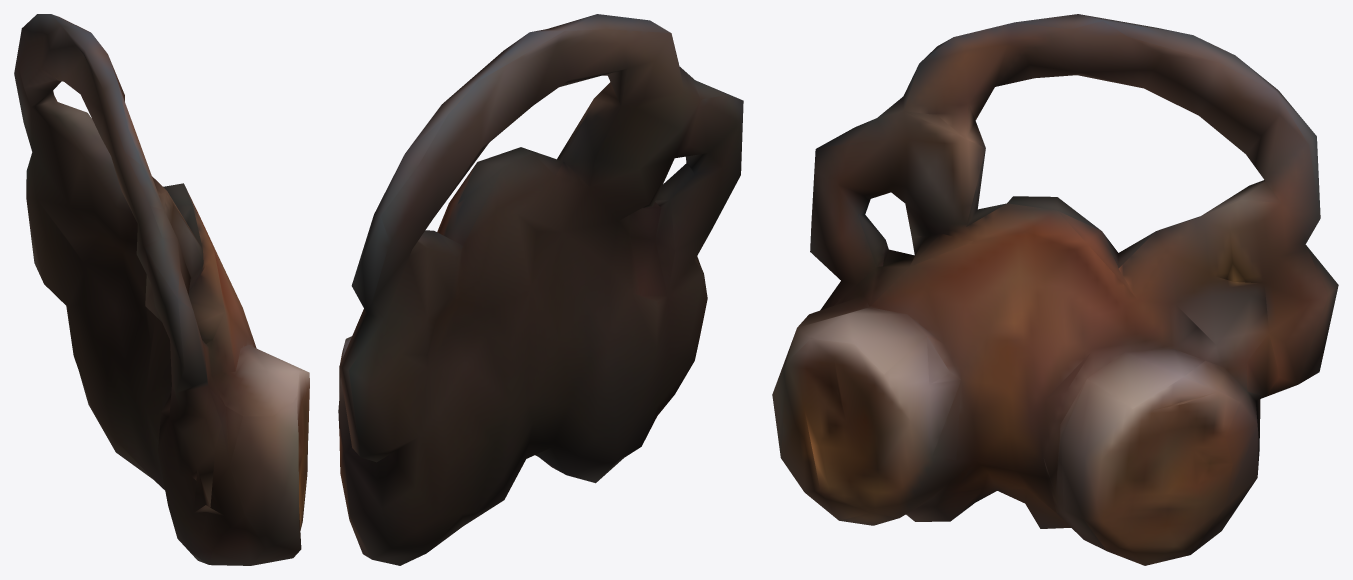
The model's file is spore_mask.glb.
The picture shows the model from 3 angles, left to right: view 1: azimuth 30°, elevation 25°; view 2: azimuth 150°, elevation 25°; view 3: azimuth 270°, elevation 25°; orthographic projection. The views are drawn at different scales.
Parts seen in each view (by area): view 1: model; view 2: model; view 3: model.
Part boxes in pixels (x1=…): model: x1=14, y1=14, x2=309, y2=565; model: x1=338, y1=14, x2=743, y2=565; model: x1=772, y1=14, x2=1338, y2=565.
Size of the model in its own units: 0.1837 by 0.3852 by 0.4053.
1 material, 1 textured.
